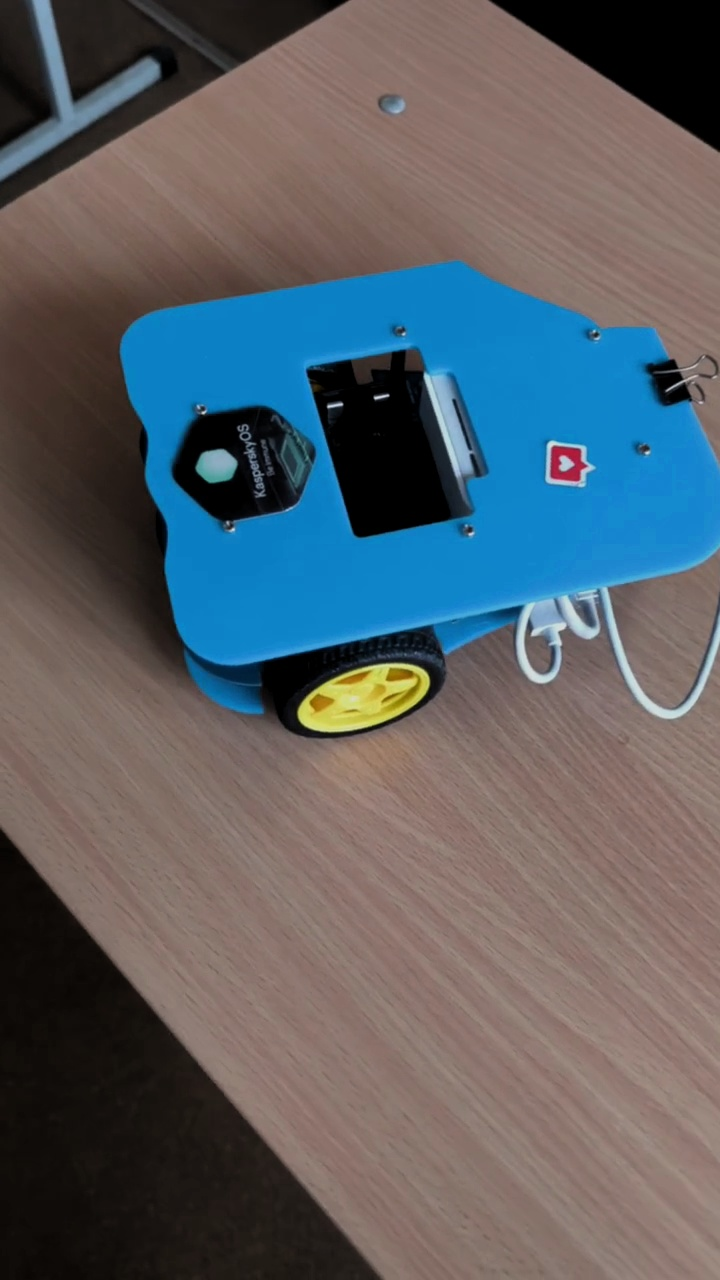robot: (117, 256, 720, 740)
